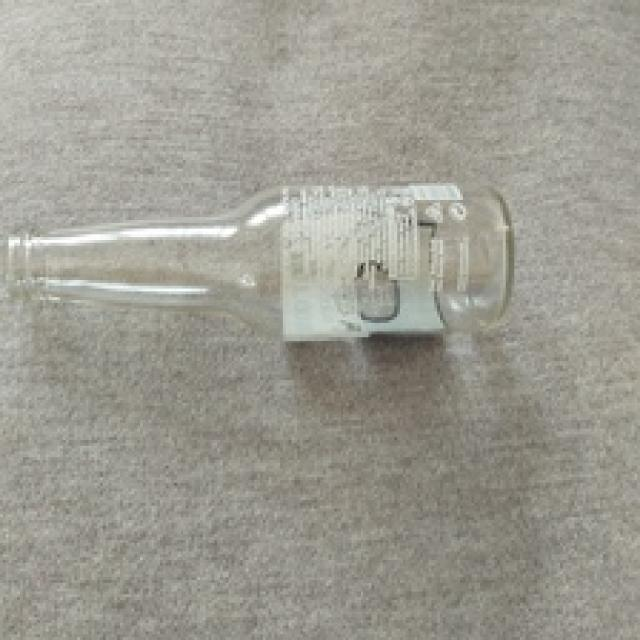garbage: (17, 180, 547, 344)
